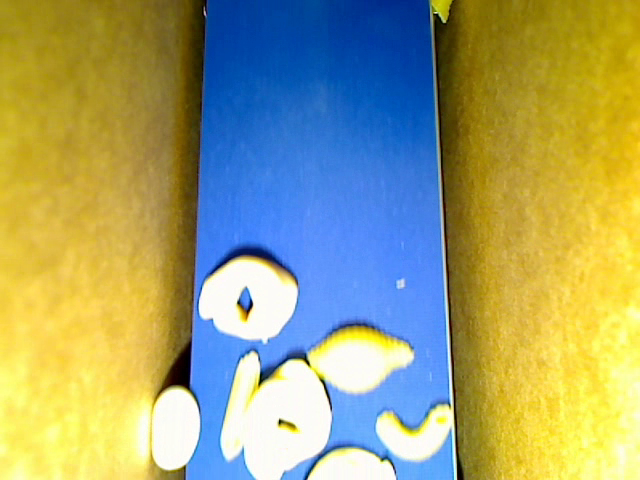elbow: (375, 403, 452, 462)
penne: (219, 349, 260, 462)
shell: (306, 325, 416, 396)
tortellini: (243, 359, 331, 479), (197, 255, 299, 344)
